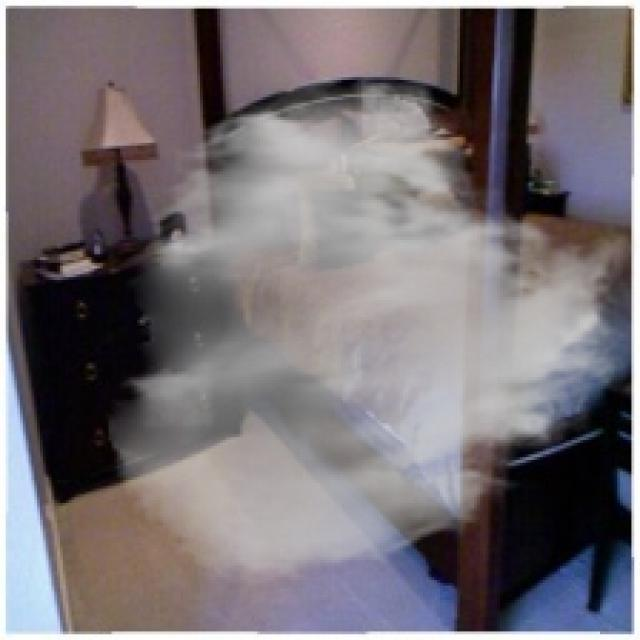Smoke: (102, 71, 638, 592)
